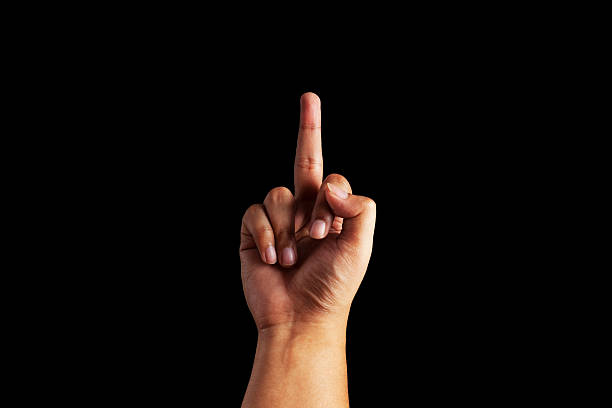insulting_gesture: (237, 92, 378, 328)
